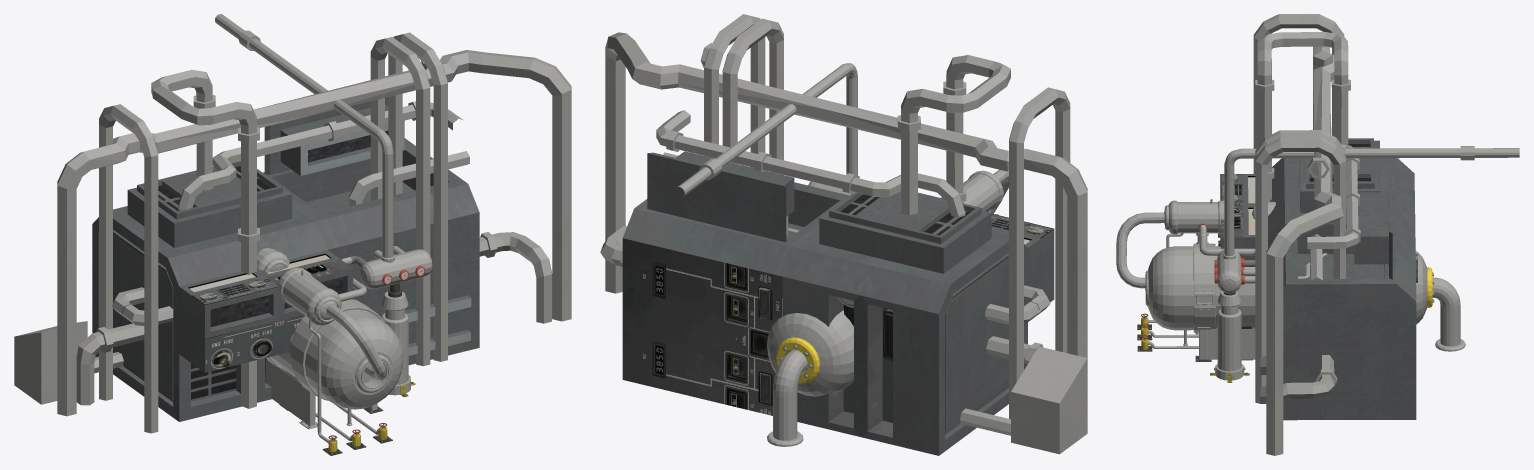
File: Sc12Plant.glb
3 renders of one model, left to right at view 1: azimuth 30°, elevation 25°; view 2: azimuth 150°, elevation 25°; view 3: azimuth 270°, elevation 25°, orthographic. The views are drawn at different scales.
Visible parts, largest first — view 1: PipeWall_0, ControlPanel_0, TankBig_0, TankBig_1; view 2: ControlPanel_0, PipeWall_0, TankBig_0, TankBig_1; view 3: ControlPanel_0, PipeWall_0, TankBig_0, TankBig_1.
Boxes of the visible parts, box(x1,y1,x2,y2) form: PipeWall_0: box(14, 32, 571, 433); ControlPanel_0: box(92, 97, 479, 421); TankBig_0: box(215, 14, 432, 443); TankBig_1: box(269, 256, 425, 455); ControlPanel_0: box(622, 151, 1054, 455); PipeWall_0: box(600, 14, 1087, 454); TankBig_0: box(678, 63, 1008, 446); TankBig_1: box(776, 337, 819, 383); ControlPanel_0: box(1218, 138, 1417, 420); PipeWall_0: box(1253, 14, 1360, 455); TankBig_0: box(1116, 146, 1519, 380); TankBig_1: box(1137, 210, 1434, 382).
Size of the model in its own units: 11.27 by 6.65 by 9.1.
Materials: 11 (8 with a texture image).
